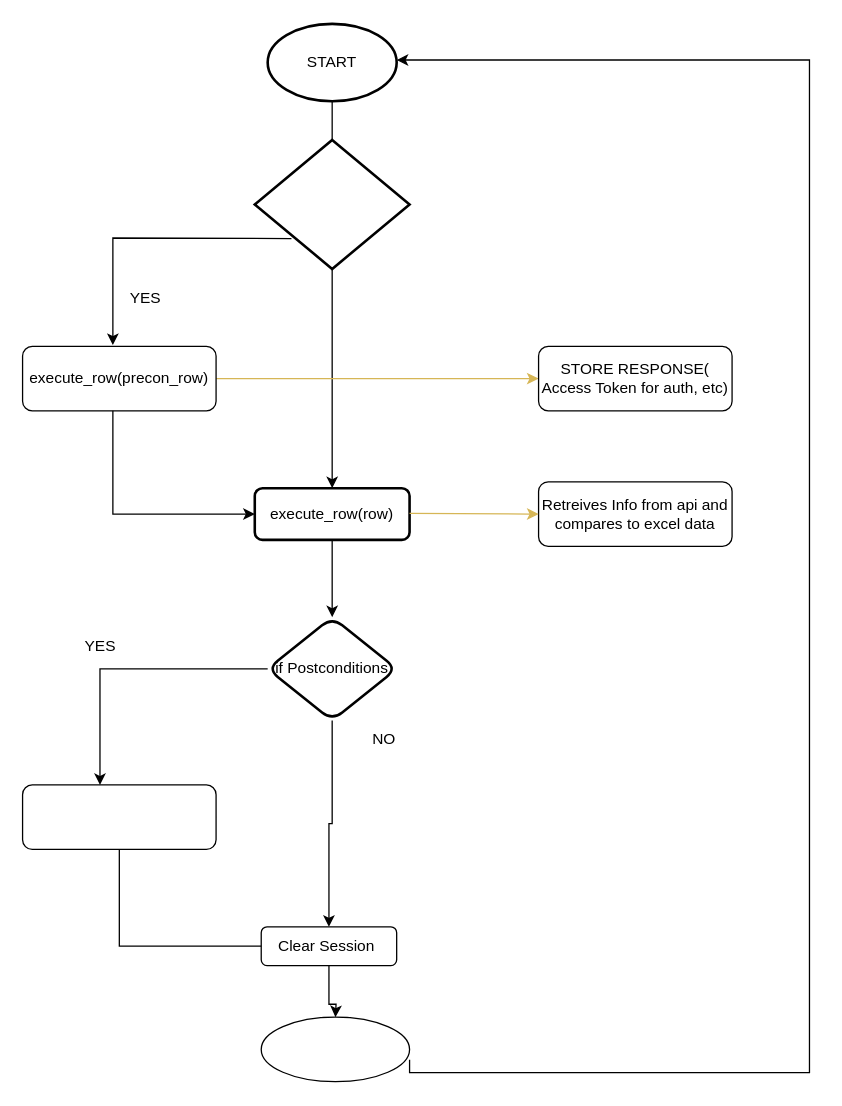
Image size: 842x1106. Some labels were removed from this diagram. Here are the shapes that lost their labels. From the top down, the centre of each, then its label:
At (x=331, y=204): "IF PRECONDITION".
At (x=118, y=816): "execute_row(postcon_row)".
At (x=335, y=1049): "MOVE TO NEXT ROW".
